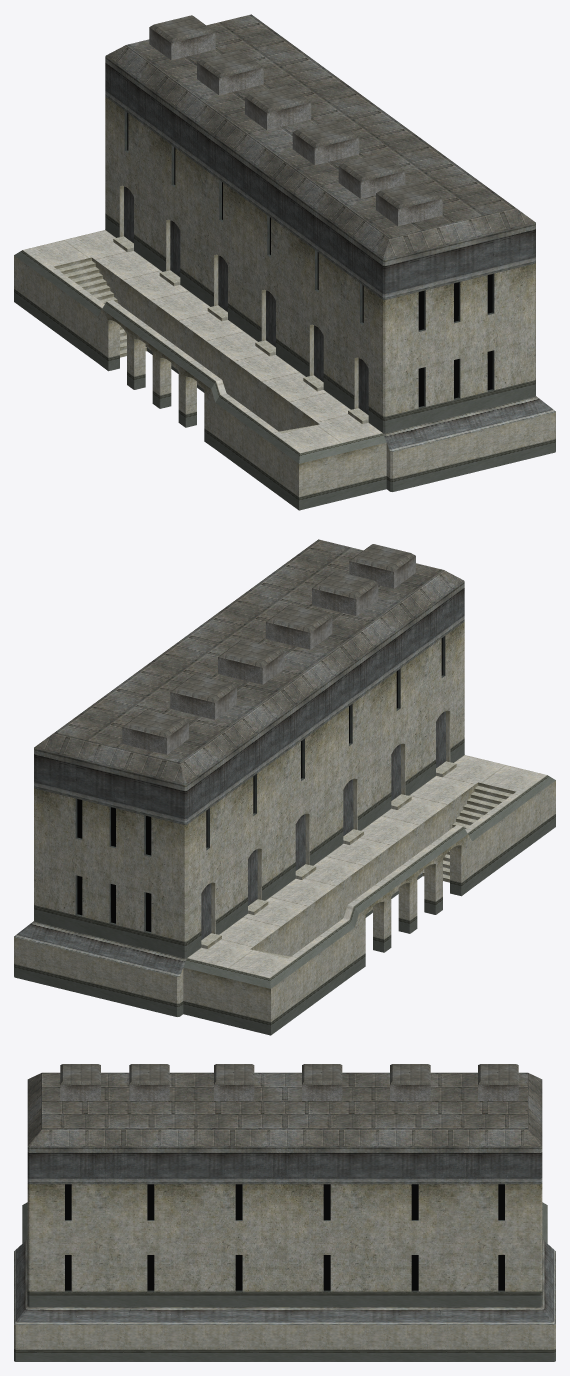
Rendered from thm_corl_imprv_slum_16x32_s02_l0.fbx.
3 views of the same model, one above another, from view 1: azimuth 30°, elevation 25°; view 2: azimuth 150°, elevation 25°; view 3: azimuth 270°, elevation 25° (orthographic). The views are drawn at different scales.
Parts seen in each view (by area): view 1: mesh_node; view 2: mesh_node; view 3: mesh_node.
Part boxes in pixels (<box>): mesh_node: <box>14,14,555,510</box>; mesh_node: <box>14,539,555,1035</box>; mesh_node: <box>14,1064,555,1361</box>.
Size of the model in its own units: 15.92 by 15.59 by 32.
